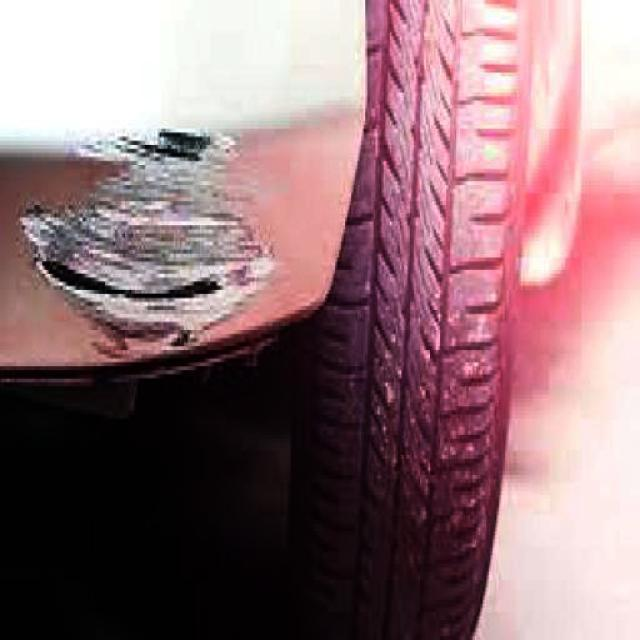car damage: (22, 117, 277, 358)
